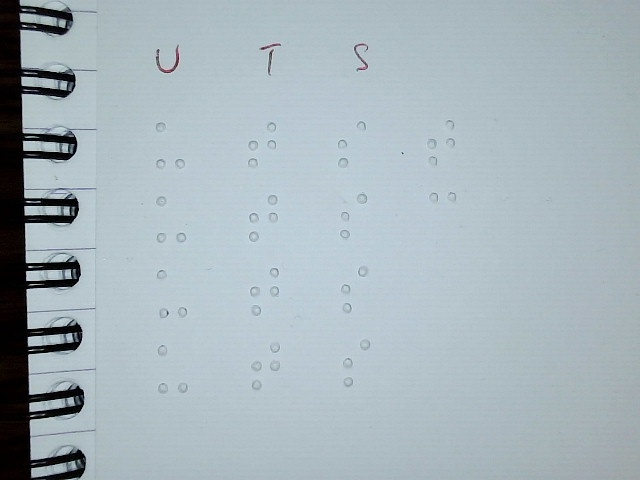S: (335, 118, 368, 170), (339, 190, 369, 241), (339, 263, 369, 314), (341, 337, 371, 388)
T: (246, 118, 279, 170), (247, 192, 280, 244), (248, 264, 281, 316), (249, 339, 282, 391)
U: (154, 119, 187, 171), (155, 193, 188, 245), (156, 267, 189, 319), (156, 342, 189, 394)
